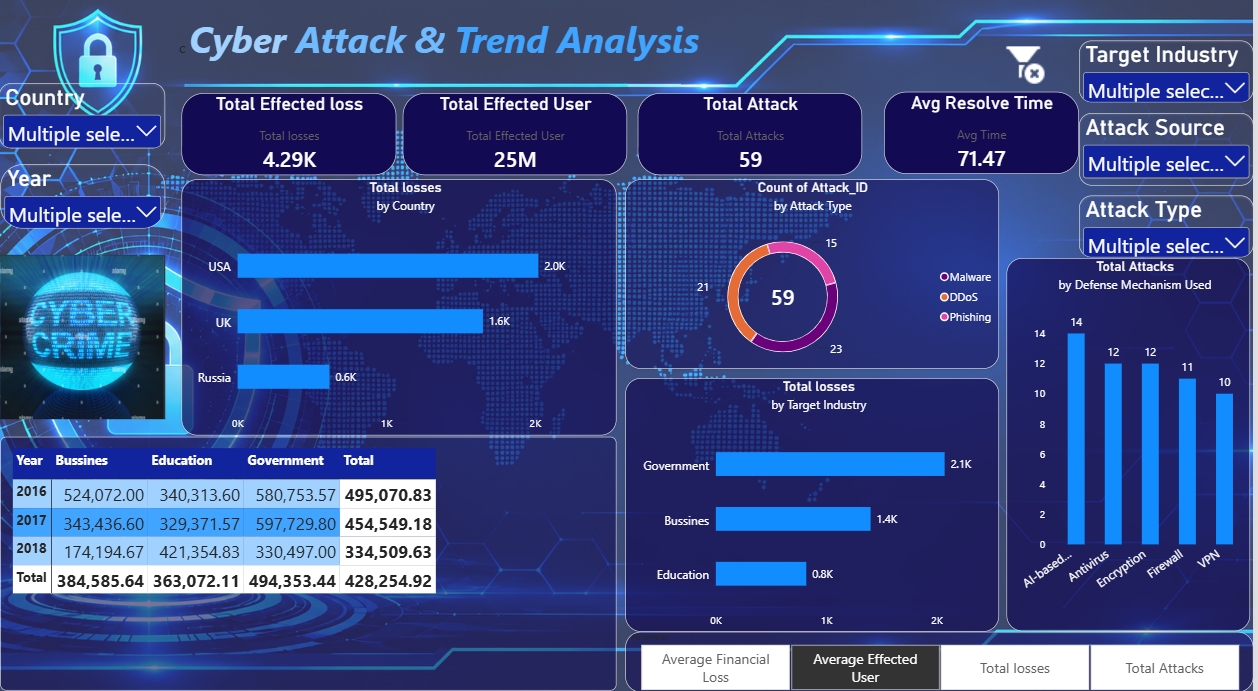

The page's visual inventory and layout, read from the dashboard file:
{"tool":"powerbi","page":{"name":"Page 1","canvas":[1672,1000],"ordinal":0},"visuals":[{"type":"slicer","fields":{"Values":["Live_Telemetry_Stream.Country"]},"box":[0,147.2,221.7,87.2],"z":7},{"type":"slicer","fields":{"Values":["Attack_Directory.Attack Type"]},"box":[1439.4,296.6,233,82.5],"z":8},{"type":"slicer","fields":{"Values":["Live_Telemetry_Stream.Target Industry"]},"box":[1439.3,89.6,233,82.5],"z":9},{"type":"slicer","fields":{"Values":["Live_Telemetry_Stream.Attack Source"]},"box":[1439.4,187.2,233,96.8],"z":11},{"type":"slicer","fields":{"Values":["Live_Telemetry_Stream.Year"]},"box":[1.8,254.4,219.9,85.4],"z":12},{"type":"cardVisual","title":"Total Effected loss","fields":{"Data":["Live_Telemetry_Stream.Total losses"]},"box":[243.5,159.9,286.8,109.3],"z":13},{"type":"cardVisual","title":"Total Effected User","fields":{"Data":["Live_Telemetry_Stream.Total Effected User"]},"box":[537.9,159.9,299.3,109.3],"z":14},{"type":"cardVisual","title":"Total Attack","fields":{"Data":["Live_Telemetry_Stream.Total Attacks"]},"box":[852.4,159.9,299.3,109.3],"z":15},{"type":"cardVisual","title":"Avg Resolve Time","fields":{"Data":["Live_Telemetry_Stream.Avg Time"]},"box":[1179.6,157.5,259.9,109.3],"z":16},{"type":"barChart","fields":{"Category":["Live_Telemetry_Stream.Country"],"Y":["Live_Telemetry_Stream.Total losses"]},"box":[243.5,274.4,579.7,341.7],"z":17},{"type":"donutChart","fields":{"Category":["Attack_Directory.Attack Type"],"Y":["CountNonNull(Live_Telemetry_Stream.Attack_ID)"]},"box":[835.3,274.2,498.3,252.7],"z":18},{"type":"pivotTable","fields":{"Columns":["Live_Telemetry_Stream.Target Industry"],"Rows":["Live_Telemetry_Stream.Year"],"Values":["cybersecuirity_dataset.Average Financial Loss"]},"box":[1.8,617.9,821.5,338],"z":19},{"type":"columnChart","fields":{"Category":["Live_Telemetry_Stream.Defense Mechanism Used"],"Y":["Live_Telemetry_Stream.Total Attacks"]},"box":[1343.8,380.4,325.1,497.7],"z":21},{"type":"barChart","fields":{"Category":["Live_Telemetry_Stream.Target Industry"],"Y":["Live_Telemetry_Stream.Total losses"]},"box":[835.3,539.5,498.3,338.8],"z":22},{"type":"slicer","fields":{"Values":["Parameter.Parameter"]},"box":[834.5,878,837.8,80.4],"z":23},{"type":"textbox","box":[240.2,55.6,749.2,68.1],"z":24},{"type":"image","box":[1310.3,89.6,111.1,57.4],"z":25},{"type":"image","box":[1.8,352.6,219.9,263.5],"z":26}]}

Visuals, with their boxes on the page's 1672x1000 design canvas (x1, y1, x2, y2). These are canvas units, not pixel positions in the 1258x691 screenshot, which may show the page scaled, cropped or inside an application window:
slicer - Live_Telemetry_Stream.Country: left=0, top=147, right=222, bottom=234
slicer - Attack_Directory.Attack Type: left=1439, top=297, right=1672, bottom=379
slicer - Live_Telemetry_Stream.Target Industry: left=1439, top=90, right=1672, bottom=172
slicer - Live_Telemetry_Stream.Attack Source: left=1439, top=187, right=1672, bottom=284
slicer - Live_Telemetry_Stream.Year: left=2, top=254, right=222, bottom=340
"Total Effected loss" cardVisual: left=244, top=160, right=530, bottom=269
"Total Effected User" cardVisual: left=538, top=160, right=837, bottom=269
"Total Attack" cardVisual: left=852, top=160, right=1152, bottom=269
"Avg Resolve Time" cardVisual: left=1180, top=158, right=1440, bottom=267
barChart - Live_Telemetry_Stream.Country x Live_Telemetry_Stream.Total losses: left=244, top=274, right=823, bottom=616
donutChart - Attack_Directory.Attack Type x CountNonNull(Live_Telemetry_Stream.Attack_ID): left=835, top=274, right=1334, bottom=527
pivotTable - Live_Telemetry_Stream.Target Industry x Live_Telemetry_Stream.Year: left=2, top=618, right=823, bottom=956
columnChart - Live_Telemetry_Stream.Defense Mechanism Used x Live_Telemetry_Stream.Total Attacks: left=1344, top=380, right=1669, bottom=878
barChart - Live_Telemetry_Stream.Target Industry x Live_Telemetry_Stream.Total losses: left=835, top=540, right=1334, bottom=878
slicer - Parameter.Parameter: left=834, top=878, right=1672, bottom=958
textbox: left=240, top=56, right=989, bottom=124
image: left=1310, top=90, right=1421, bottom=147
image: left=2, top=353, right=222, bottom=616
